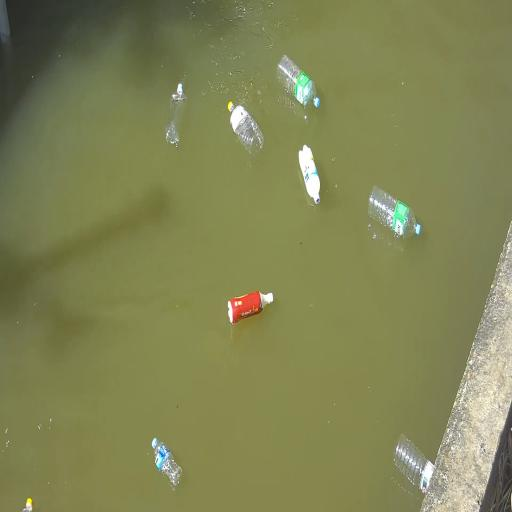plastic: (368, 186, 421, 238), (394, 435, 434, 494), (277, 55, 319, 108), (228, 101, 264, 159), (152, 438, 182, 490), (228, 292, 273, 325), (299, 145, 320, 206), (166, 83, 186, 147), (23, 498, 33, 511)
